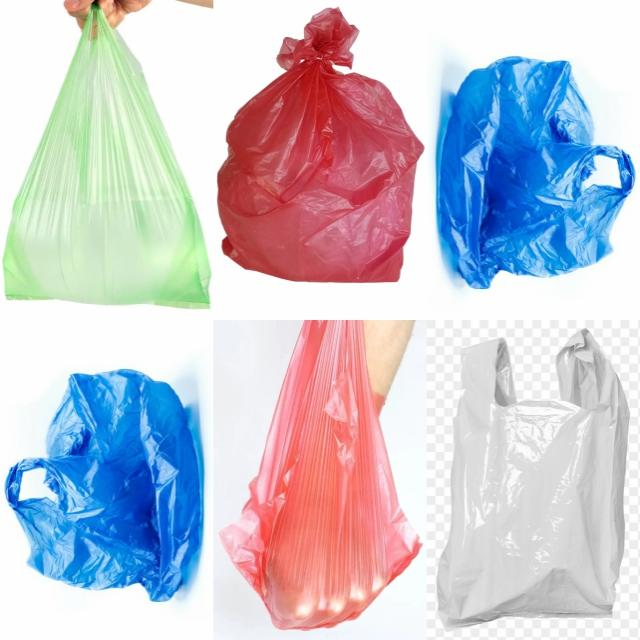Single-layer Plastic: (220, 321, 420, 629), (4, 8, 210, 307), (438, 330, 629, 627), (218, 9, 424, 282), (6, 370, 201, 601), (439, 58, 634, 288)
